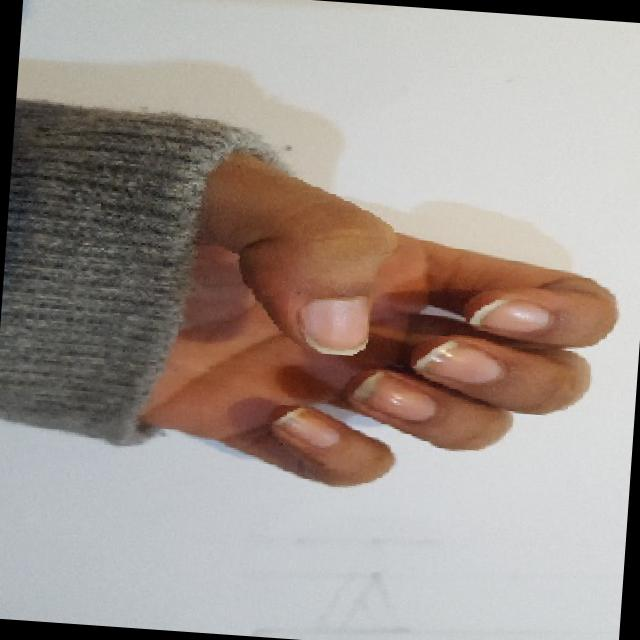Nail: (349, 370, 436, 419), (298, 296, 368, 355), (412, 338, 502, 383), (468, 298, 549, 332), (273, 407, 338, 446)
